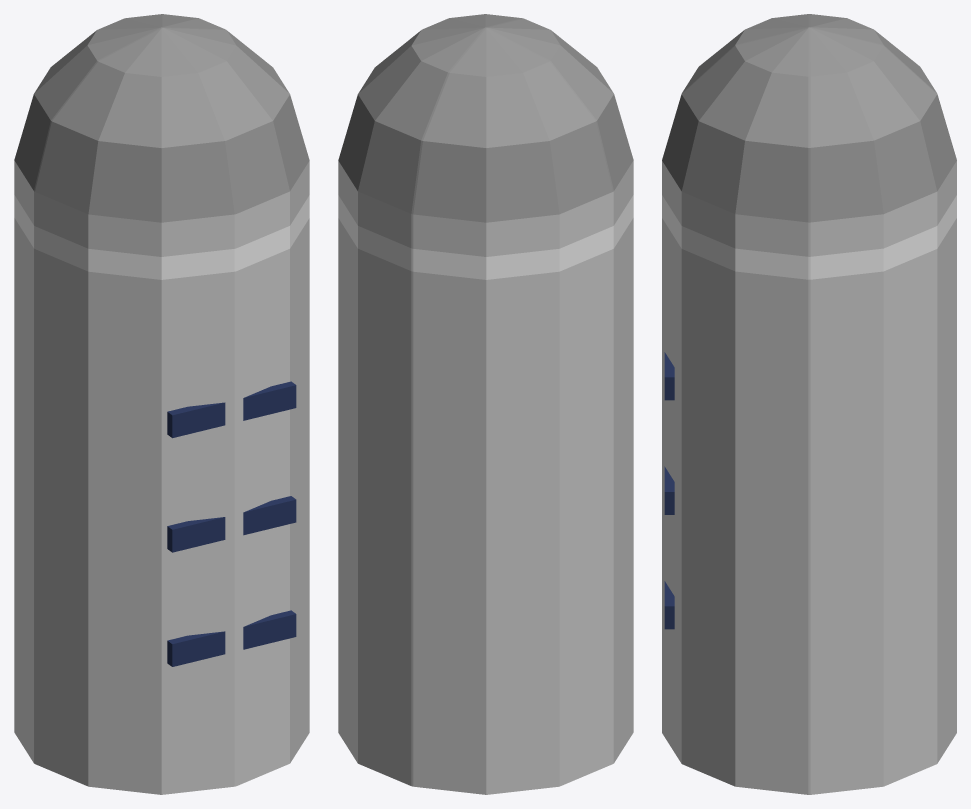
Rendered from tower_round.obj.
The picture shows the model from 3 angles, left to right: view 1: azimuth 30°, elevation 25°; view 2: azimuth 150°, elevation 25°; view 3: azimuth 270°, elevation 25°; orthographic projection.
Bounding box in the file's own units: 14 × 36.95 × 14.
